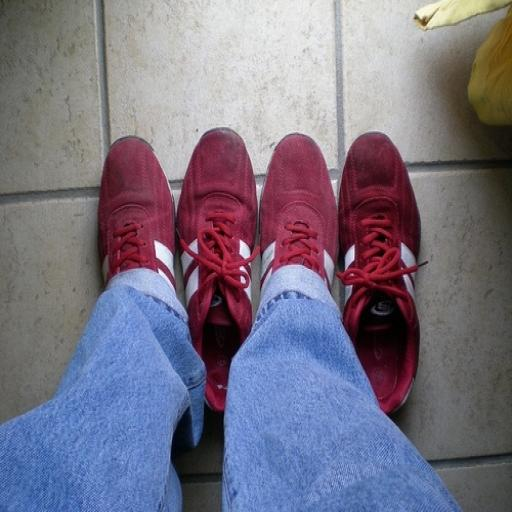shoe: (339, 132, 421, 414), (177, 128, 258, 412), (260, 134, 338, 289), (98, 136, 175, 290)
